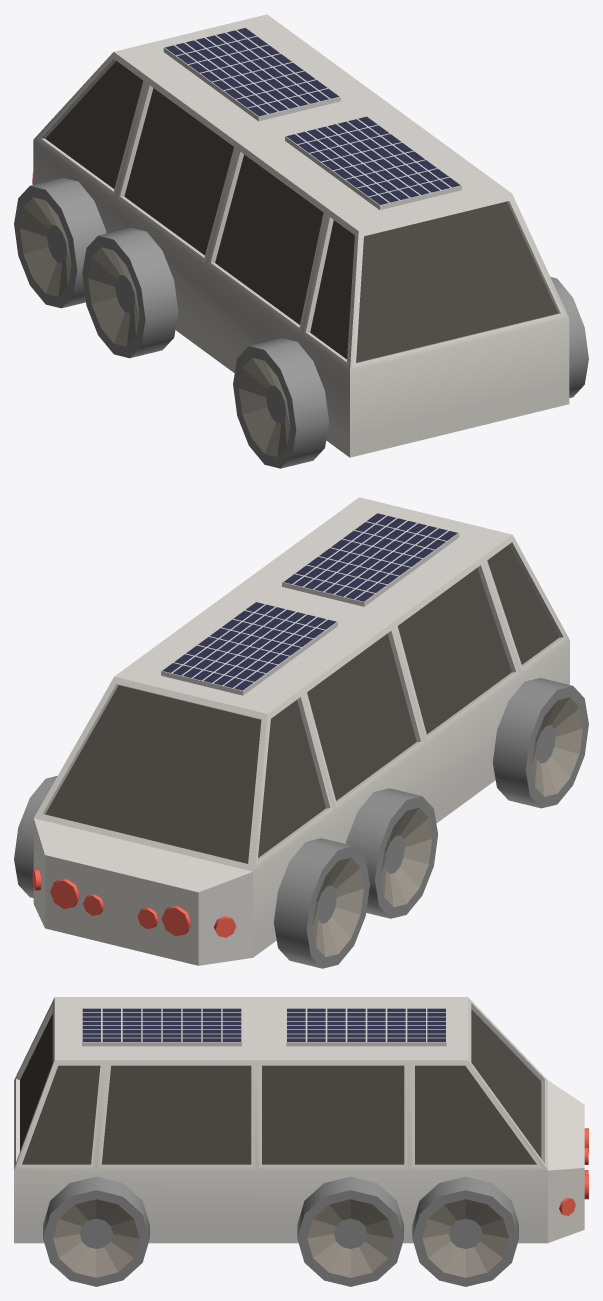
Rendered from 08 Ven.FBX.
3 views of the same model, one above another, from view 1: azimuth 30°, elevation 25°; view 2: azimuth 150°, elevation 25°; view 3: azimuth 270°, elevation 25° (orthographic). The views are drawn at different scales.
Visible parts, largest first — view 1: Box042; view 2: Box042; view 3: Box042.
Part boxes in pixels (bbox=[...]): Box042: bbox=[14, 14, 588, 468]; Box042: bbox=[14, 497, 588, 968]; Box042: bbox=[14, 997, 588, 1286].
Size of the model in its own units: 1067 by 834 by 2153.
